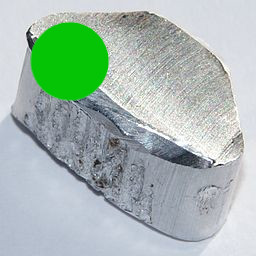focus: (25, 18, 112, 101)
